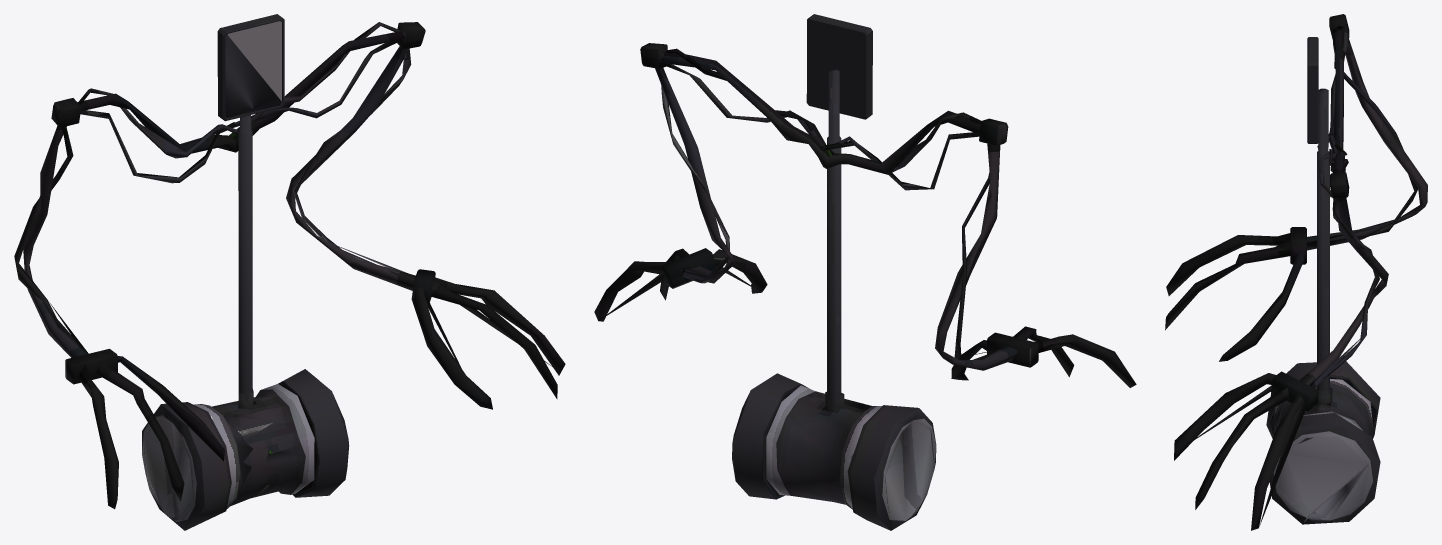
File: item_squishy_segway.glb
3 views of the same model, side by side, from view 1: azimuth 30°, elevation 25°; view 2: azimuth 150°, elevation 25°; view 3: azimuth 270°, elevation 25° (orthographic). The views are drawn at different scales.
Visible parts, largest first — view 1: toy_segway; view 2: toy_segway; view 3: toy_segway.
Part boxes in pixels (box(x1,y1,x2,y2)): toy_segway: box(14, 14, 565, 530); toy_segway: box(594, 14, 1136, 530); toy_segway: box(1165, 14, 1427, 530).
Size of the model in its own units: 0.3165 by 0.2918 by 0.1571.
1 material, 1 textured.
